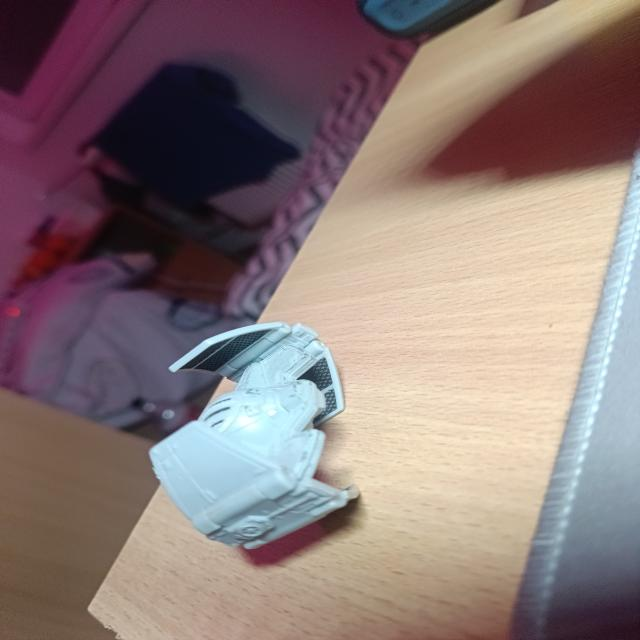tie fighter: (150, 322, 359, 550)
